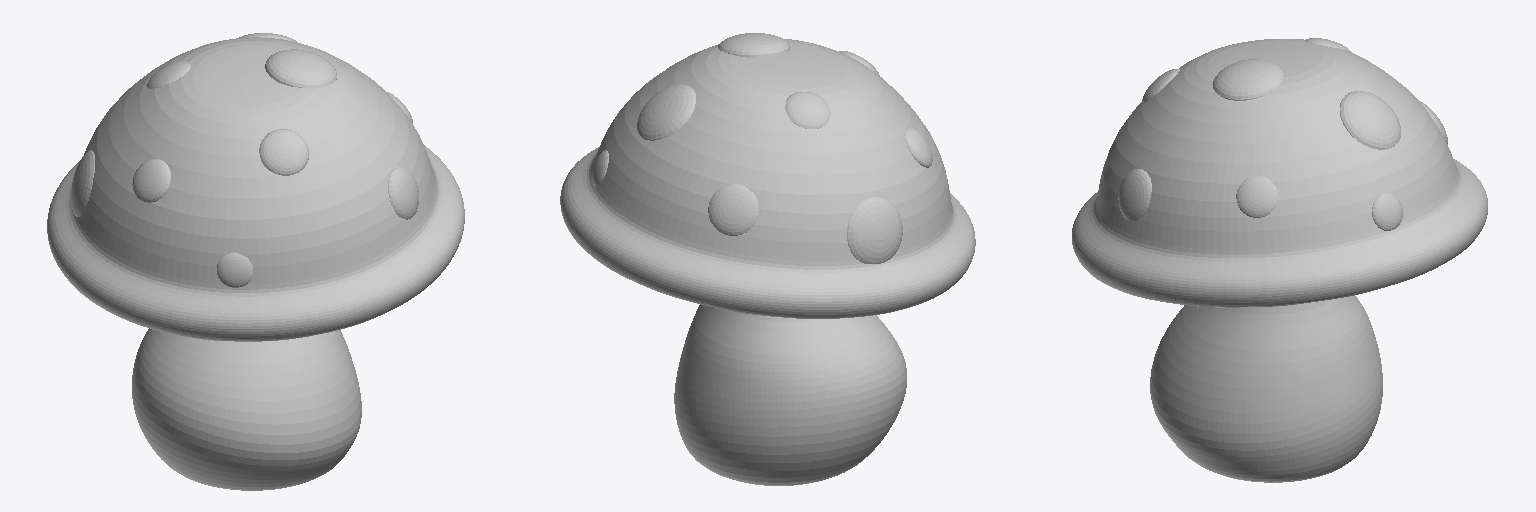
File: mush11.obj
3 views of the same model, side by side, from view 1: azimuth 30°, elevation 25°; view 2: azimuth 150°, elevation 25°; view 3: azimuth 270°, elevation 25° (orthographic).
Visible parts, largest first — view 1: Mushroom_Cylinder.001; view 2: Mushroom_Cylinder.001; view 3: Mushroom_Cylinder.001.
Boxes of the visible parts, box(x1,y1,x2,y2) form: Mushroom_Cylinder.001: box(47, 33, 464, 490); Mushroom_Cylinder.001: box(560, 33, 975, 485); Mushroom_Cylinder.001: box(1072, 38, 1487, 482).
Bounding box in the file's own units: 4.52 × 4.84 × 4.52.